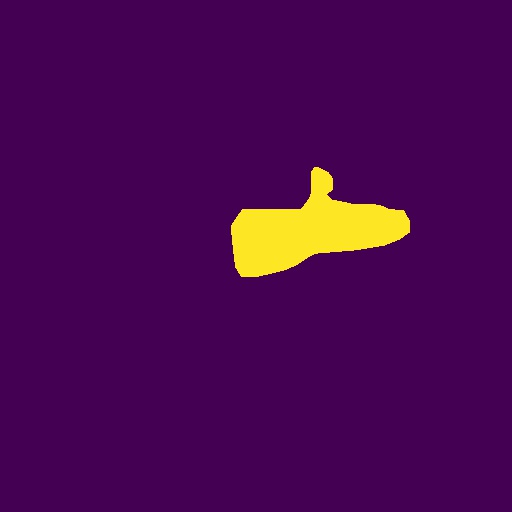Gliomia_tumour: (231, 167, 410, 277)
